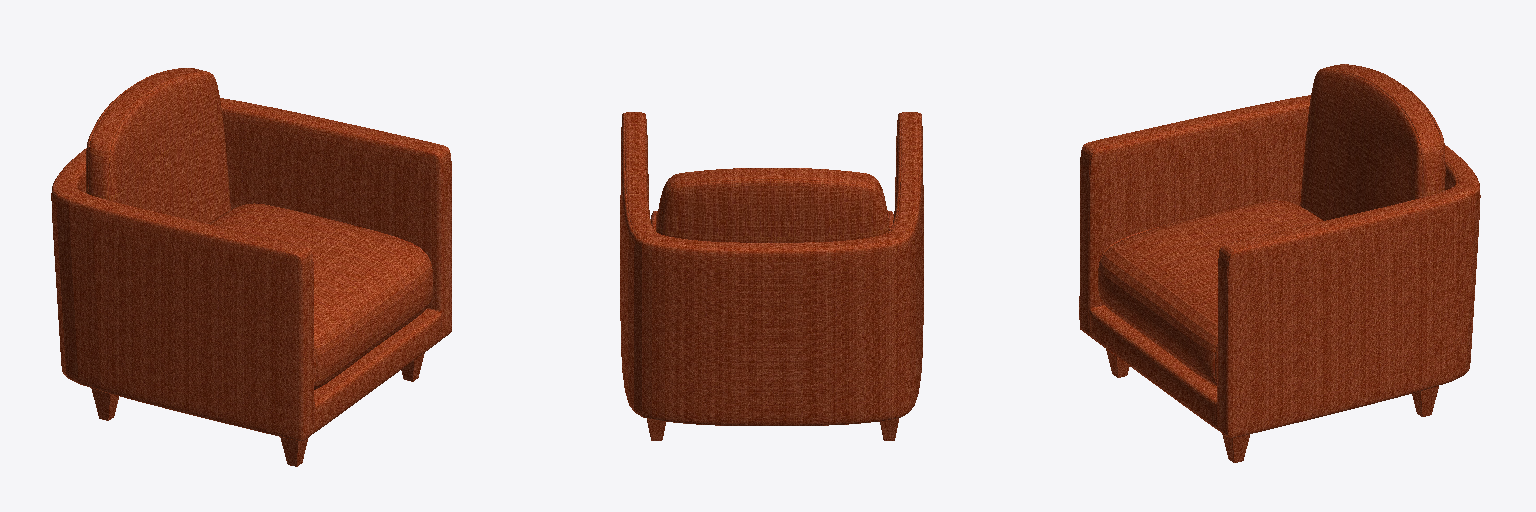
The picture shows the model from 3 angles: view 1: azimuth 30°, elevation 25°; view 2: azimuth 150°, elevation 25°; view 3: azimuth 270°, elevation 25°; orthographic projection.
Bounding box in the file's own units: 915 × 715 × 932.
1 materials, 1 textured.